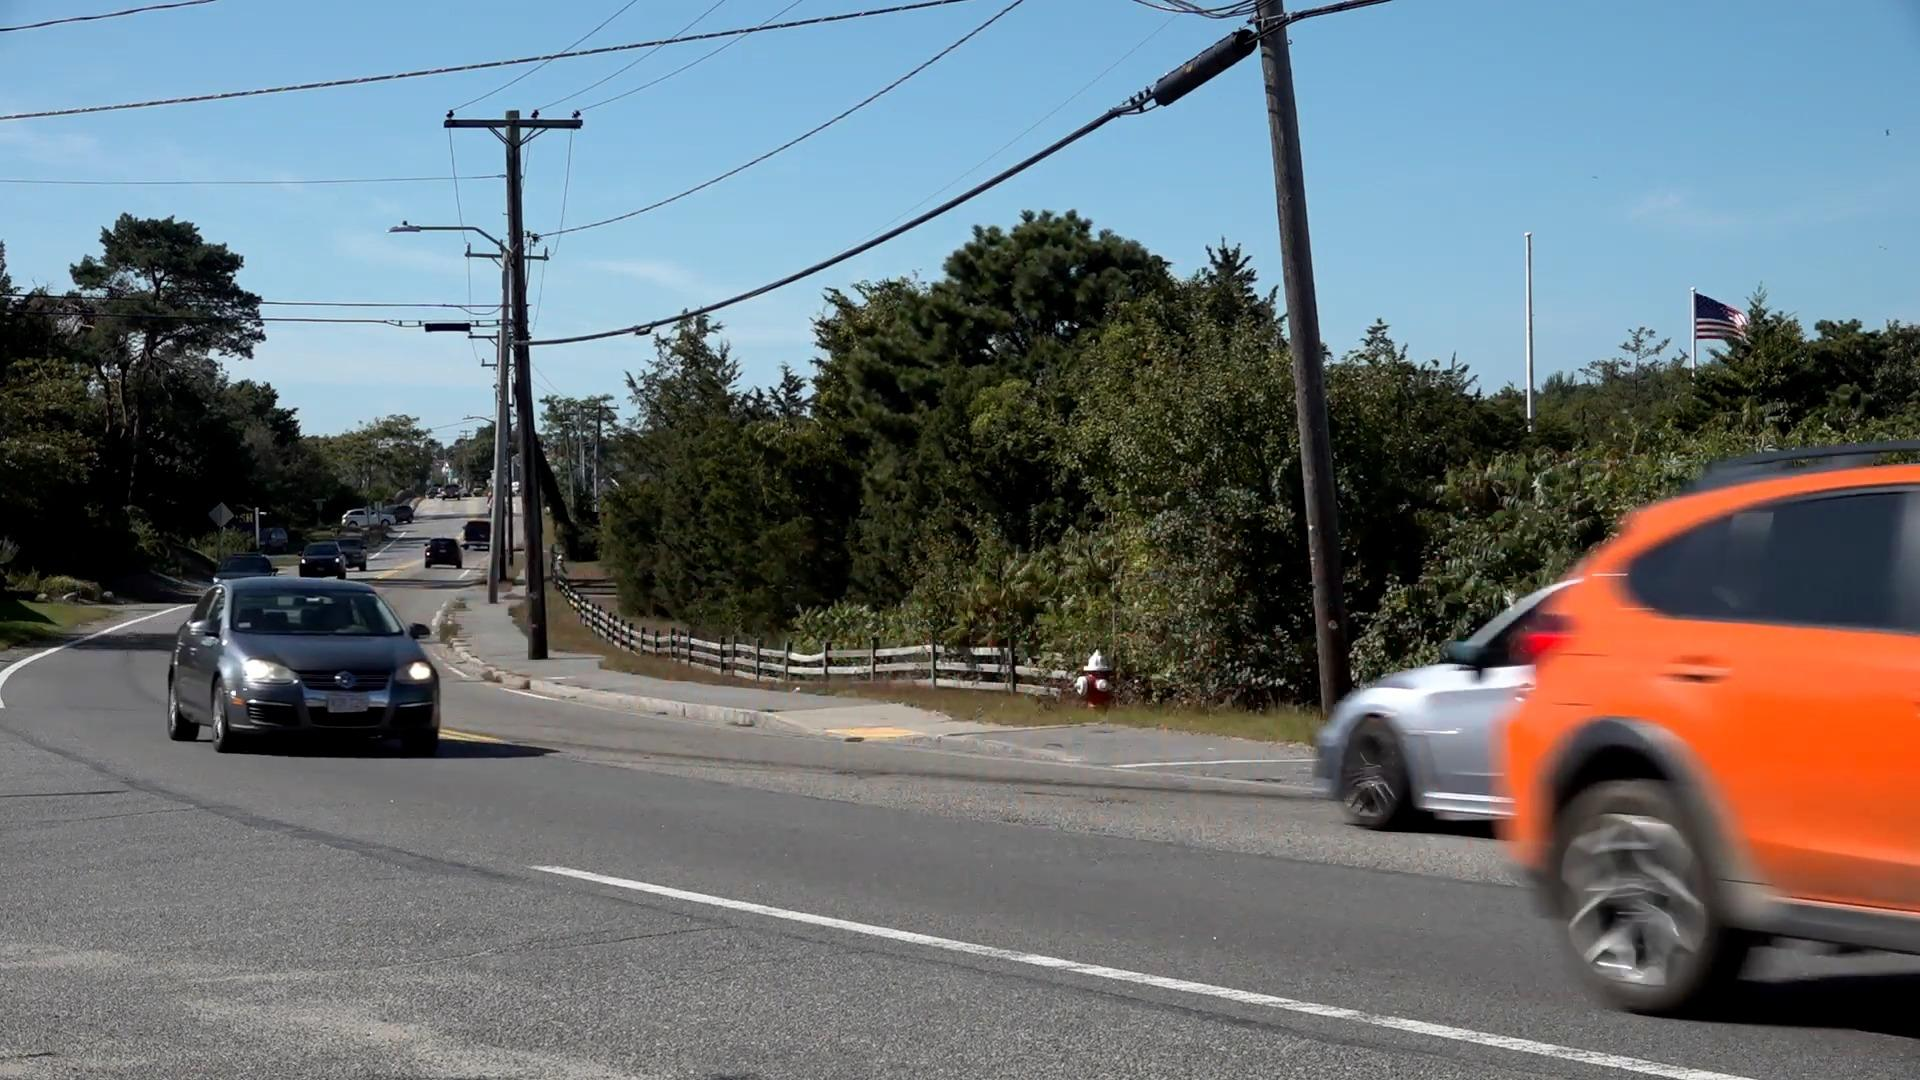sedans: (169, 571, 447, 762)
suv: (1502, 433, 1920, 1021)
